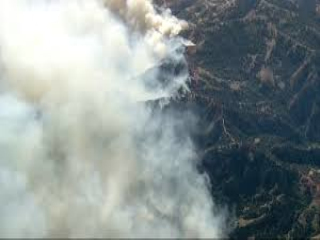smoke: (107, 1, 195, 106)
